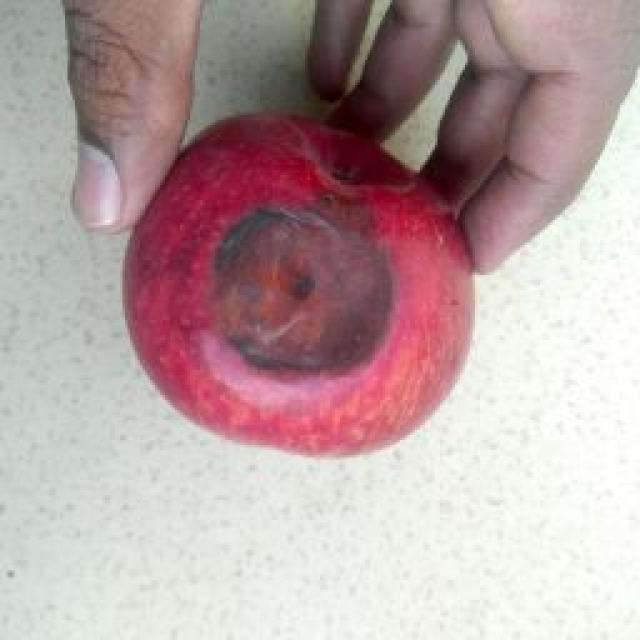Bad_Apple: (124, 114, 474, 454)
